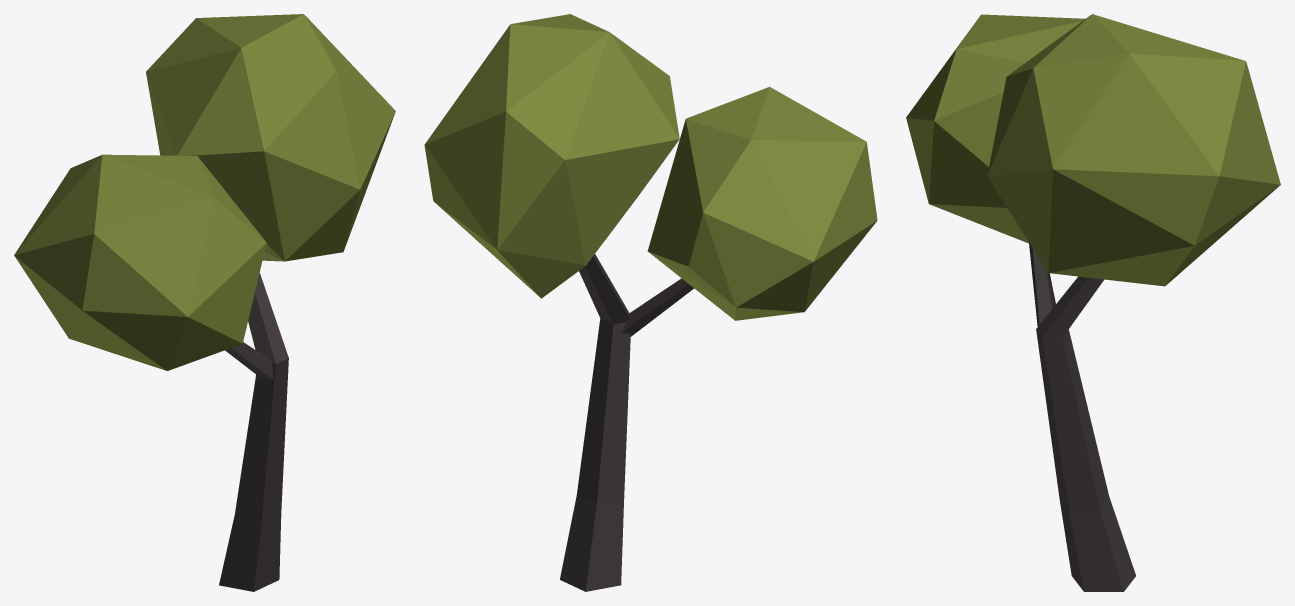
The model's file is TB_Env_RTree_Two_C.FBX.
The picture shows the model from 3 angles, left to right: view 1: azimuth 30°, elevation 25°; view 2: azimuth 150°, elevation 25°; view 3: azimuth 270°, elevation 25°; orthographic projection. The views are drawn at different scales.
Visible parts, largest first — view 1: TB_Env_RTree_Two_C; view 2: TB_Env_RTree_Two_C; view 3: TB_Env_RTree_Two_C.
Part boxes in pixels (x1,y1,x2,y2): TB_Env_RTree_Two_C: (14, 14, 395, 591); TB_Env_RTree_Two_C: (424, 14, 877, 591); TB_Env_RTree_Two_C: (906, 14, 1280, 591).
Size of the model in its own units: 3.77 by 5.55 by 3.36.
